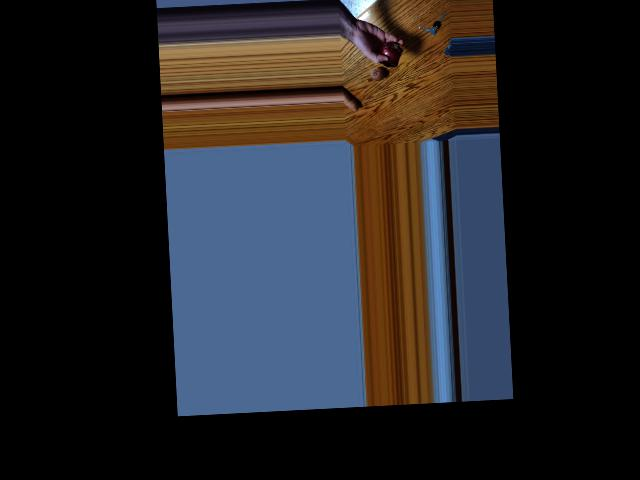onion: (381, 42, 401, 63)
